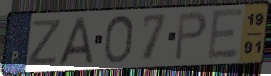7: (141, 12, 167, 64)
A: (57, 15, 95, 67)
E: (206, 7, 245, 63)
O: (101, 13, 136, 66)
P: (173, 10, 209, 62)
Z: (26, 18, 64, 68)
